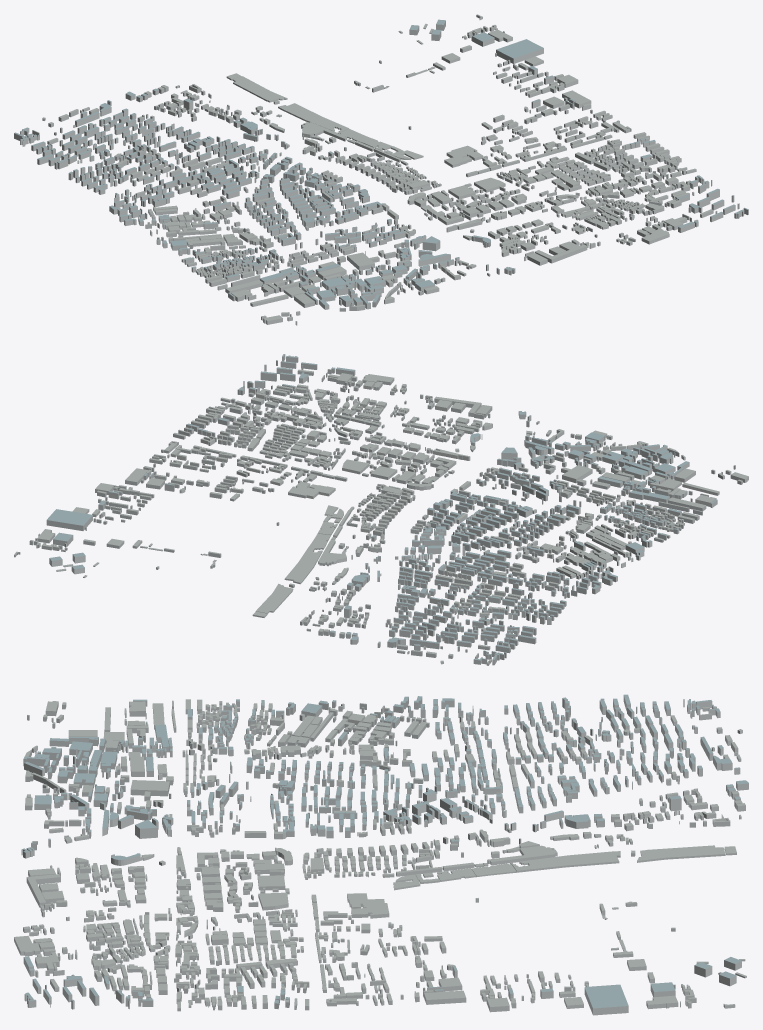
File: far.glb
3 renders of one model, top to bottom at view 1: azimuth 30°, elevation 25°; view 2: azimuth 150°, elevation 25°; view 3: azimuth 270°, elevation 25°, orthographic. The views are drawn at different scales.
Size of the model in its own units: 2166 by 37.48 by 2143.
